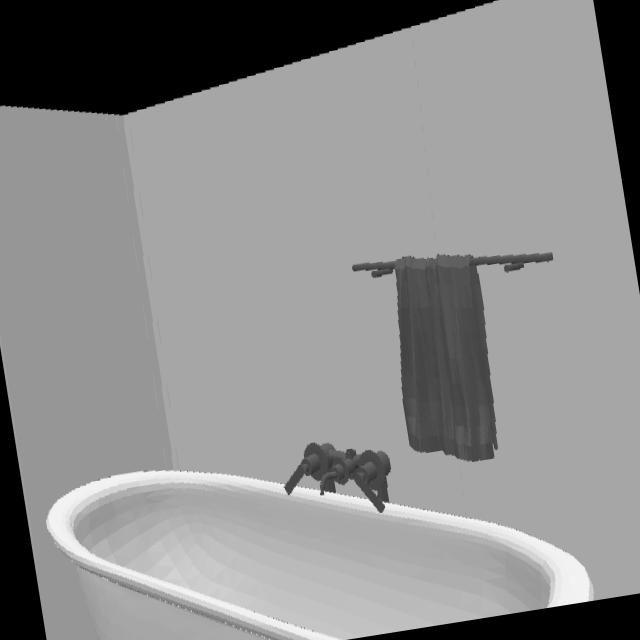bathtube: (45, 465, 597, 640)
